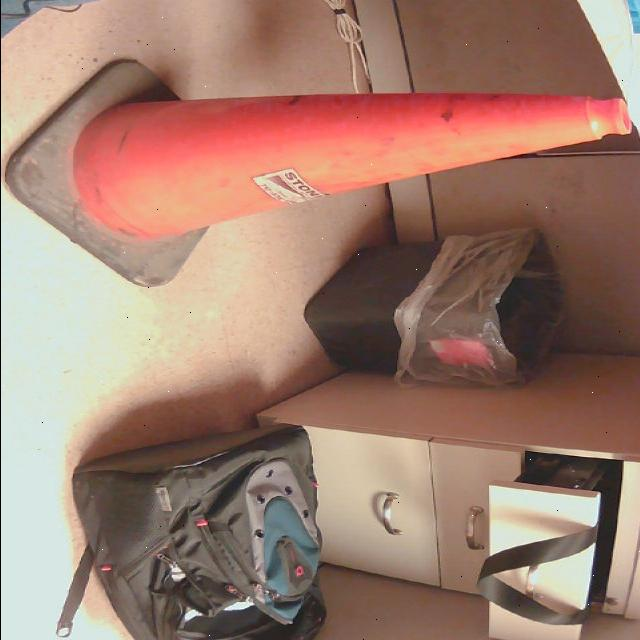traffic cone: (4, 59, 633, 290)
